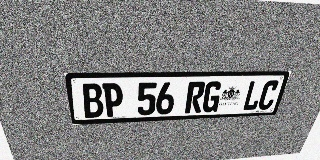5: (138, 82, 157, 116)
6: (156, 82, 176, 115)
B: (81, 83, 104, 118)
C: (256, 80, 281, 110)
G: (201, 81, 223, 113)
L: (241, 80, 265, 111)
P: (102, 83, 123, 117)
R: (185, 82, 206, 113)
